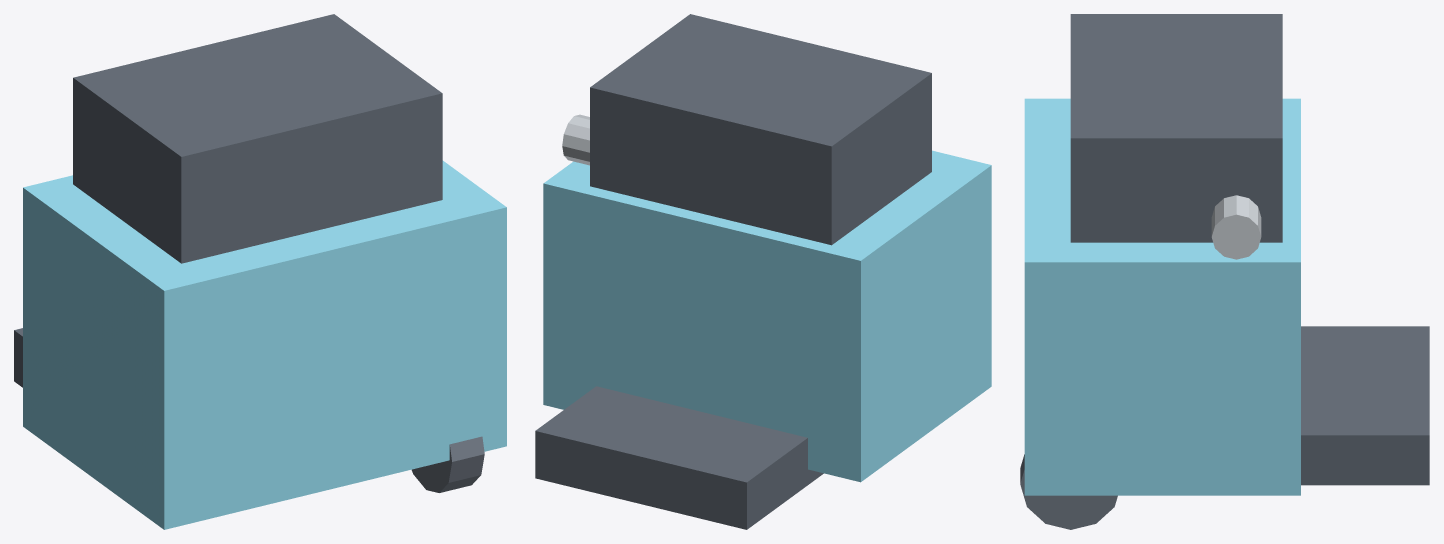
Rendered from separador_goma.glb.
The picture shows the model from 3 angles, left to right: view 1: azimuth 30°, elevation 25°; view 2: azimuth 150°, elevation 25°; view 3: azimuth 270°, elevation 25°; orthographic projection. The views are drawn at different scales.
Visible parts, largest first — view 1: chasis, tolva, rueda; view 2: chasis, tolva, cinta, rodillo; view 3: chasis, tolva, cinta, rodillo, rueda.
Part boxes in pixels (x1,y1,x2,y2): chasis: [23, 160, 506, 529]; tolva: [73, 14, 442, 263]; rueda: [411, 436, 484, 492]; chasis: [543, 150, 991, 482]; tolva: [590, 14, 931, 245]; cinta: [535, 386, 823, 529]; rodillo: [562, 114, 589, 165]; chasis: [1024, 98, 1300, 495]; tolva: [1070, 14, 1282, 242]; cinta: [1301, 326, 1429, 485]; rodillo: [1211, 195, 1261, 259]; rueda: [1020, 454, 1117, 529].
Bounding box in the file's own units: 0.8217 × 0.9 × 0.8707.
